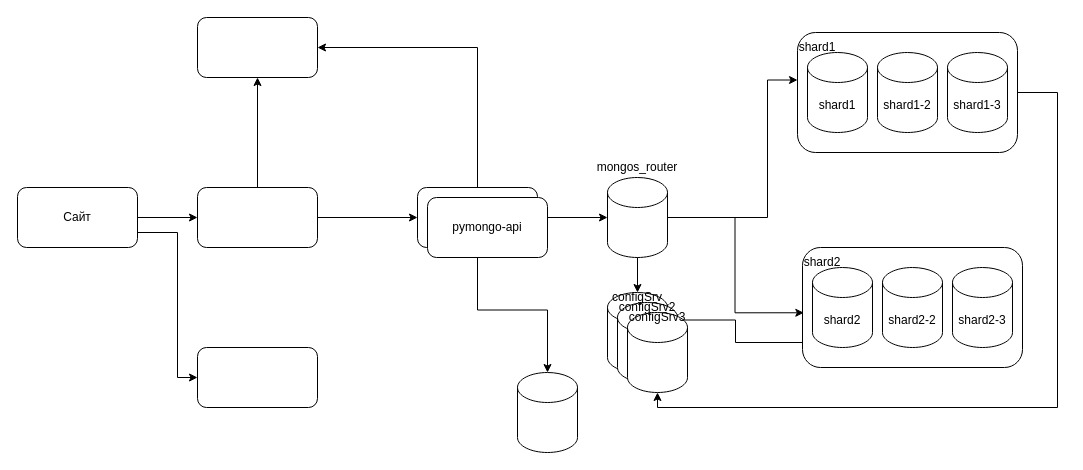
Image size: 1083x470. Some labels were removed from this diagram. Each missing label, with the centre of its shape:
API Gateway: the point at 257,217
CDN: the point at 257,377
Consul: the point at 257,47
redis: the point at 547,412
